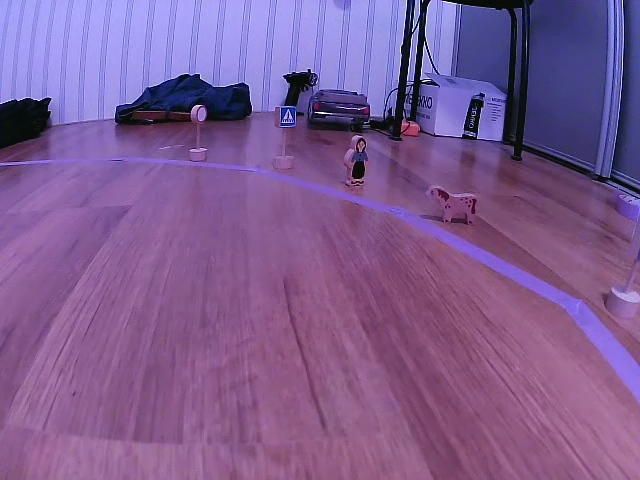mens: (342, 133, 369, 186)
paard: (427, 186, 480, 227)
wegdicht: (191, 106, 208, 124)
zebrapad: (275, 106, 297, 128)
